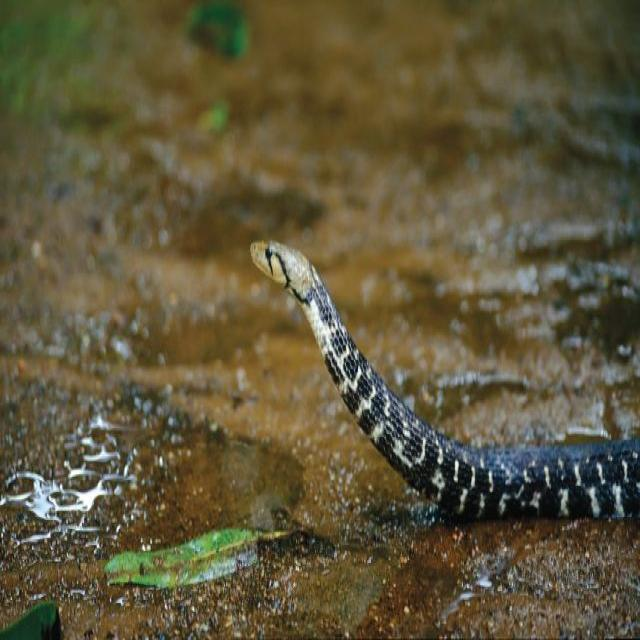Snake: (246, 227, 640, 532)
